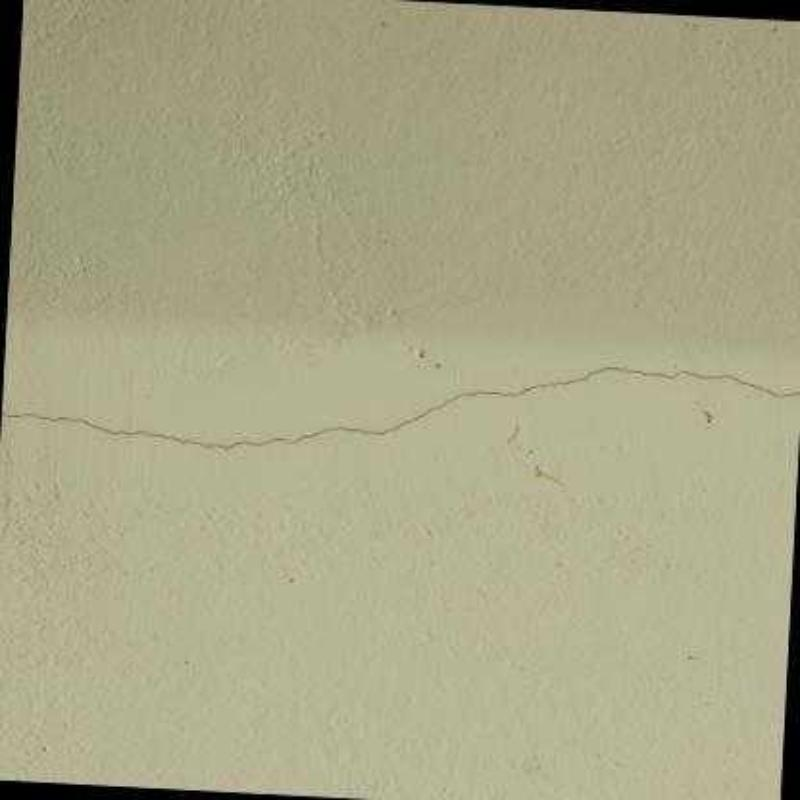pothole: (0, 364, 800, 449)
